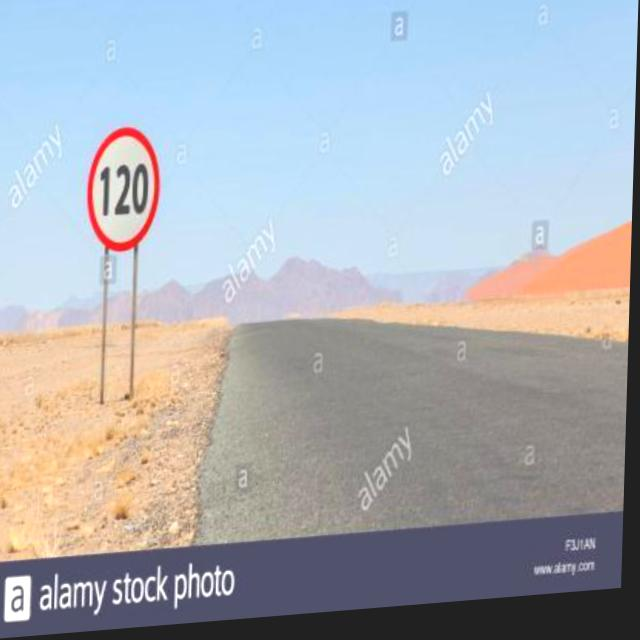limit120: (81, 121, 166, 264)
